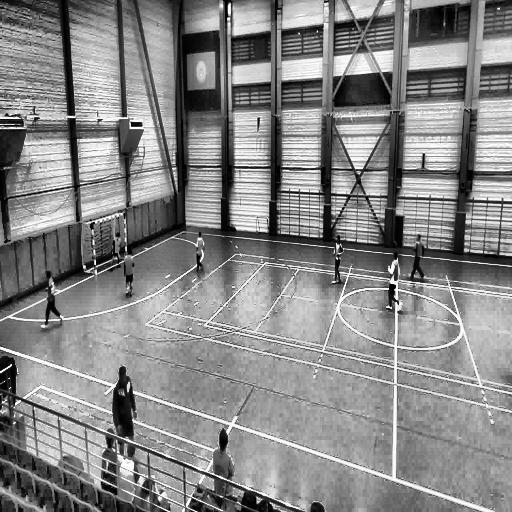player: (112, 368, 136, 458), (44, 270, 64, 326), (386, 251, 401, 310), (409, 233, 425, 280), (333, 234, 343, 284), (124, 248, 134, 297), (194, 232, 204, 274), (113, 232, 122, 270)
